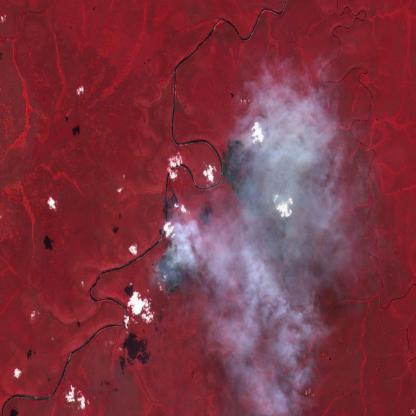fire: (220, 101, 333, 244), (150, 228, 195, 304)
